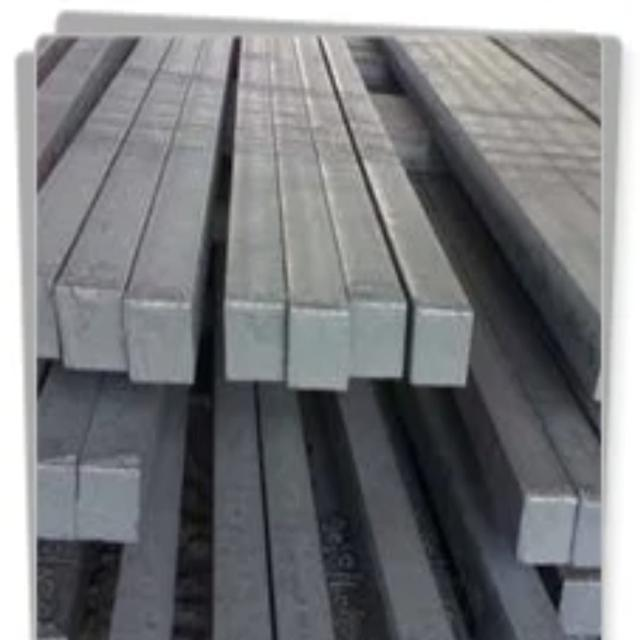Dry Waste: (45, 39, 598, 626)
